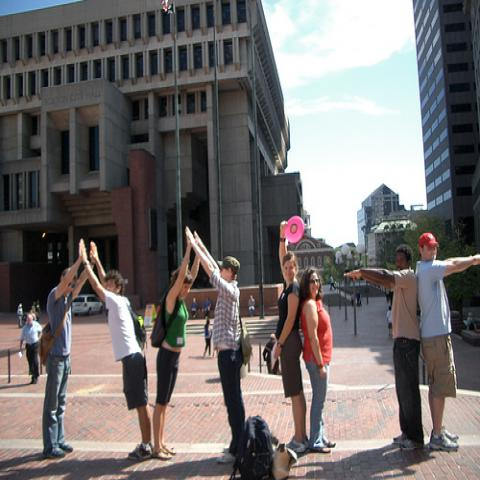car: (72, 294, 103, 316)
